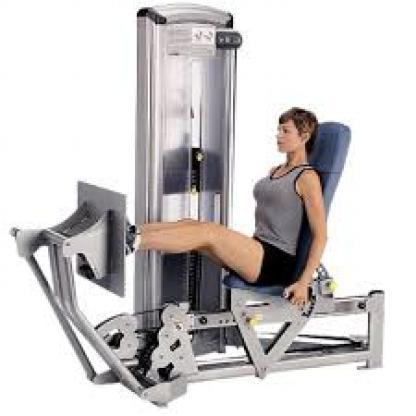leg press: (3, 0, 416, 416)
